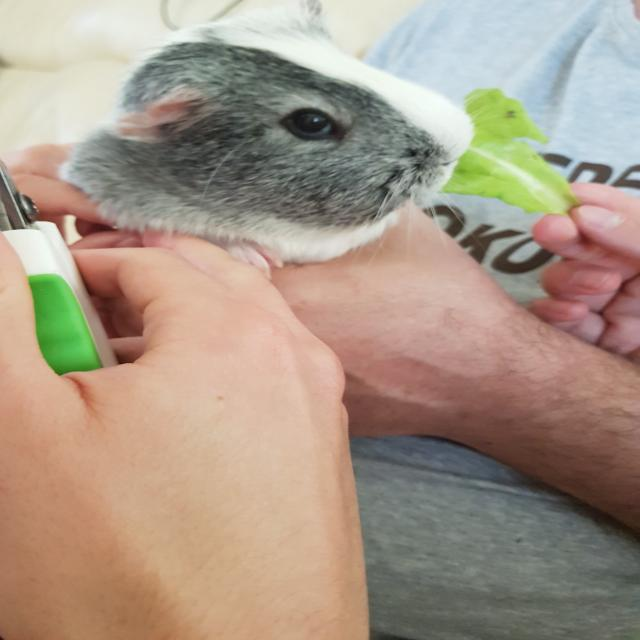guinea pig: (59, 7, 476, 286)
